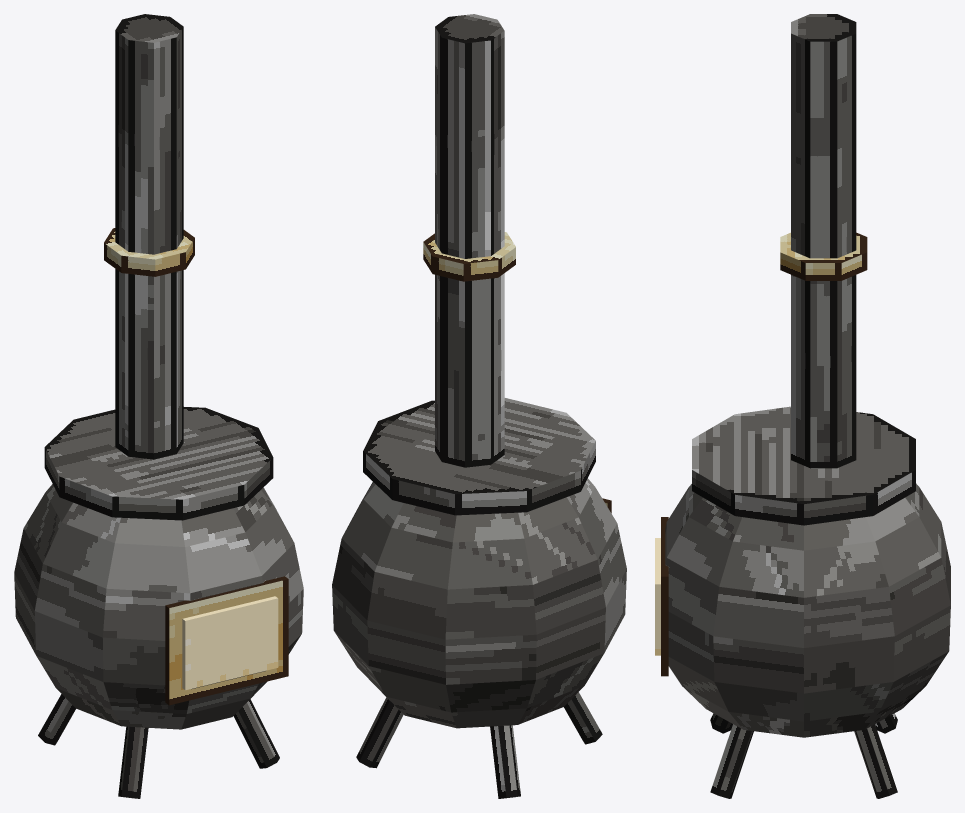
Rendered from stove.glb.
3 renders of one model, left to right at view 1: azimuth 30°, elevation 25°; view 2: azimuth 150°, elevation 25°; view 3: azimuth 270°, elevation 25°, orthographic. The views are drawn at different scales.
Visible parts, largest first — view 1: belly, pipe, top, fire, doorframe, collar, leg_3, leg, leg_2; view 2: belly, pipe, top, collar, leg_2, leg_1, leg_3; view 3: belly, pipe, top, collar, leg_1, leg, doorframe, fire.
Boxes of the visible parts, x1,y1,x2,y2 form: belly: (14,484,303,729); pipe: (115,14,183,459); top: (44,407,273,520); fire: (182,596,278,690); doorframe: (165,576,288,705); collar: (104,228,194,276); leg_3: (118,726,148,798); leg: (233,699,279,768); leg_2: (38,694,75,745); belly: (332,478,626,728); pipe: (435,14,504,467); top: (363,398,595,515); collar: (423,232,515,281); leg_2: (490,725,520,798); leg_1: (356,697,403,768); leg_3: (564,692,602,744); belly: (665,483,950,737); pipe: (791,14,856,468); top: (692,406,915,525); collar: (780,232,867,280); leg_1: (854,724,897,798); leg: (710,724,753,798); doorframe: (661,517,668,676); fire: (655,538,660,655).
Size of the model in its own units: 0.7487 by 2.07 by 0.7544.
Materials: 1 (1 with a texture image).
